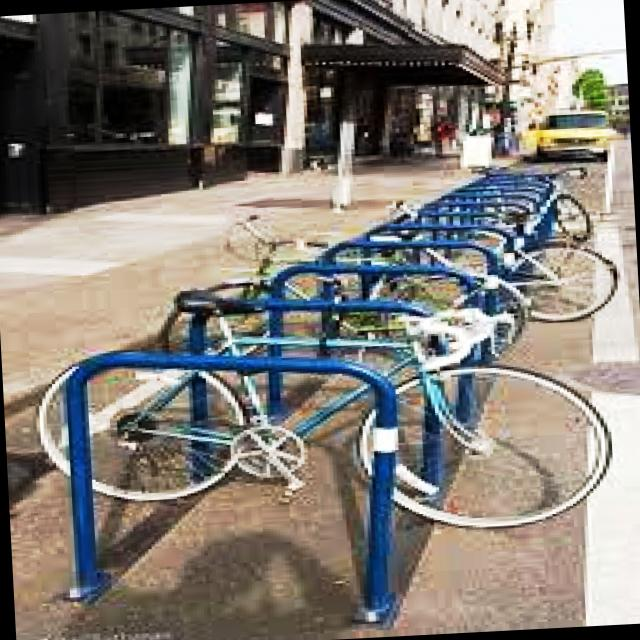bike: (30, 266, 620, 552), (152, 200, 538, 383)
